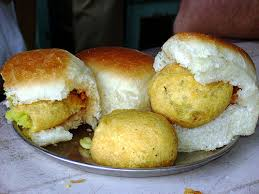vada pav: (177, 41, 233, 139), (17, 56, 71, 134)
